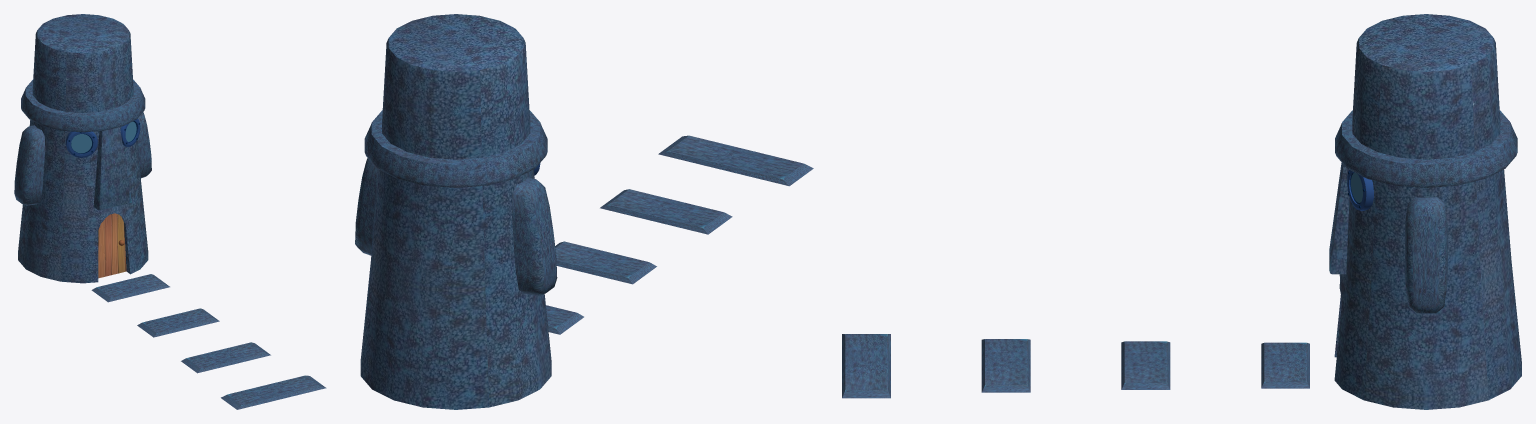
3 views of the same model, side by side, from view 1: azimuth 30°, elevation 25°; view 2: azimuth 150°, elevation 25°; view 3: azimuth 270°, elevation 25° (orthographic). The views are drawn at different scales.
Parts seen in each view (by area): view 1: Squidward's_House_Malha.002, Stones_Malha.003; view 2: Squidward's_House_Malha.002, Stones_Malha.003; view 3: Squidward's_House_Malha.002, Stones_Malha.003.
Part boxes in pixels (x1,y1,x2,y2): Squidward's_House_Malha.002: (14, 14, 151, 283); Stones_Malha.003: (91, 274, 326, 409); Squidward's_House_Malha.002: (355, 14, 557, 409); Stones_Malha.003: (546, 135, 813, 334); Squidward's_House_Malha.002: (1329, 14, 1521, 409); Stones_Malha.003: (842, 334, 1309, 398).
Size of what is drawn, in the model's own units: 5.58 by 9.15 by 17.21.
Materials: 7 (3 with a texture image).
